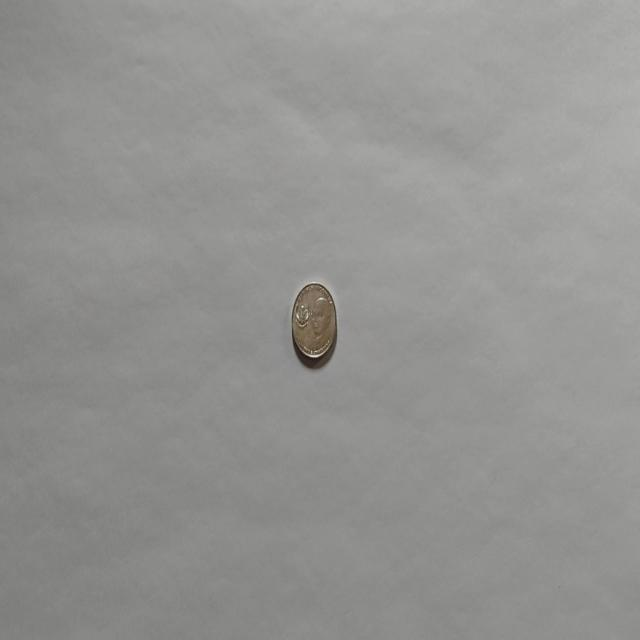lima ratus rupiah: (290, 280, 338, 363)
